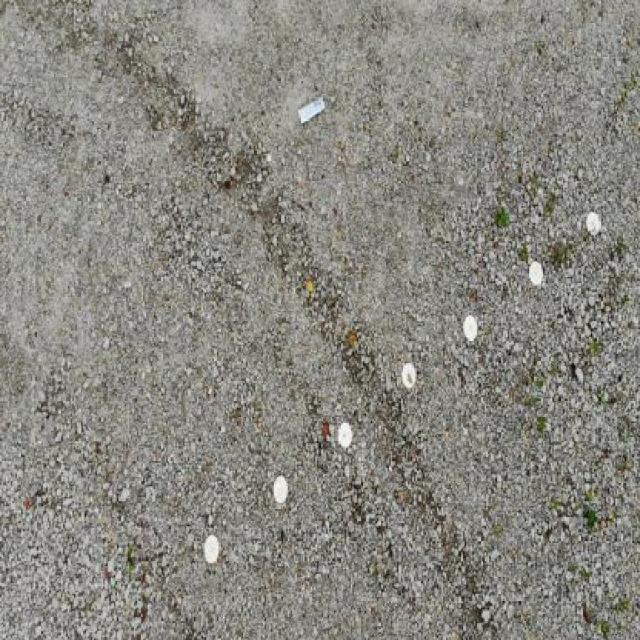Garbage: (298, 94, 326, 126)
